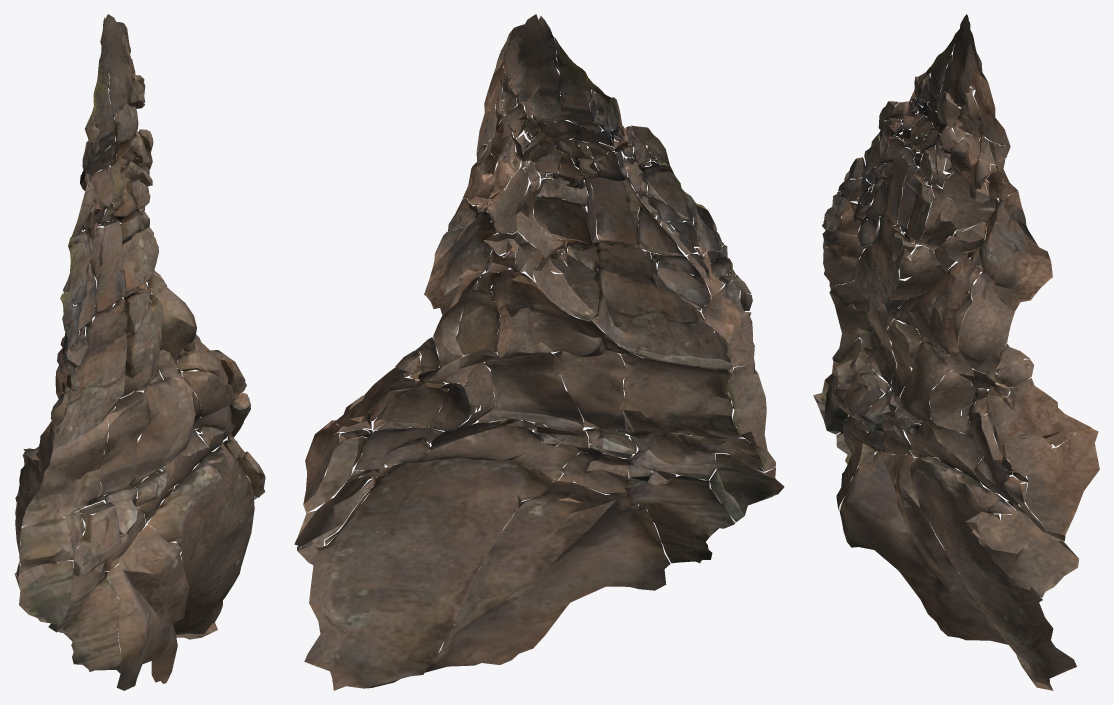
File: spindle.glb
3 renders of one model, left to right at view 1: azimuth 30°, elevation 25°; view 2: azimuth 150°, elevation 25°; view 3: azimuth 270°, elevation 25°, orthographic. The views are drawn at different scales.
Visible parts, largest first — view 1: spindle; view 2: spindle; view 3: spindle.
Boxes of the visible parts, x1,y1,x2,y2 form: spindle: [14, 14, 265, 690]; spindle: [294, 14, 784, 690]; spindle: [813, 14, 1099, 690].
Bounding box in the file's own units: 0.5646 × 1 × 0.4271.
Materials: 1 (1 with a texture image).
